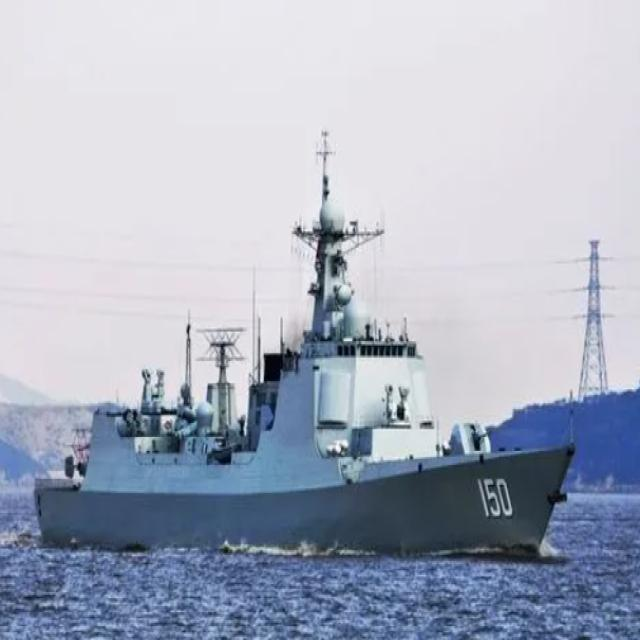navalvessels: (35, 137, 580, 564)
